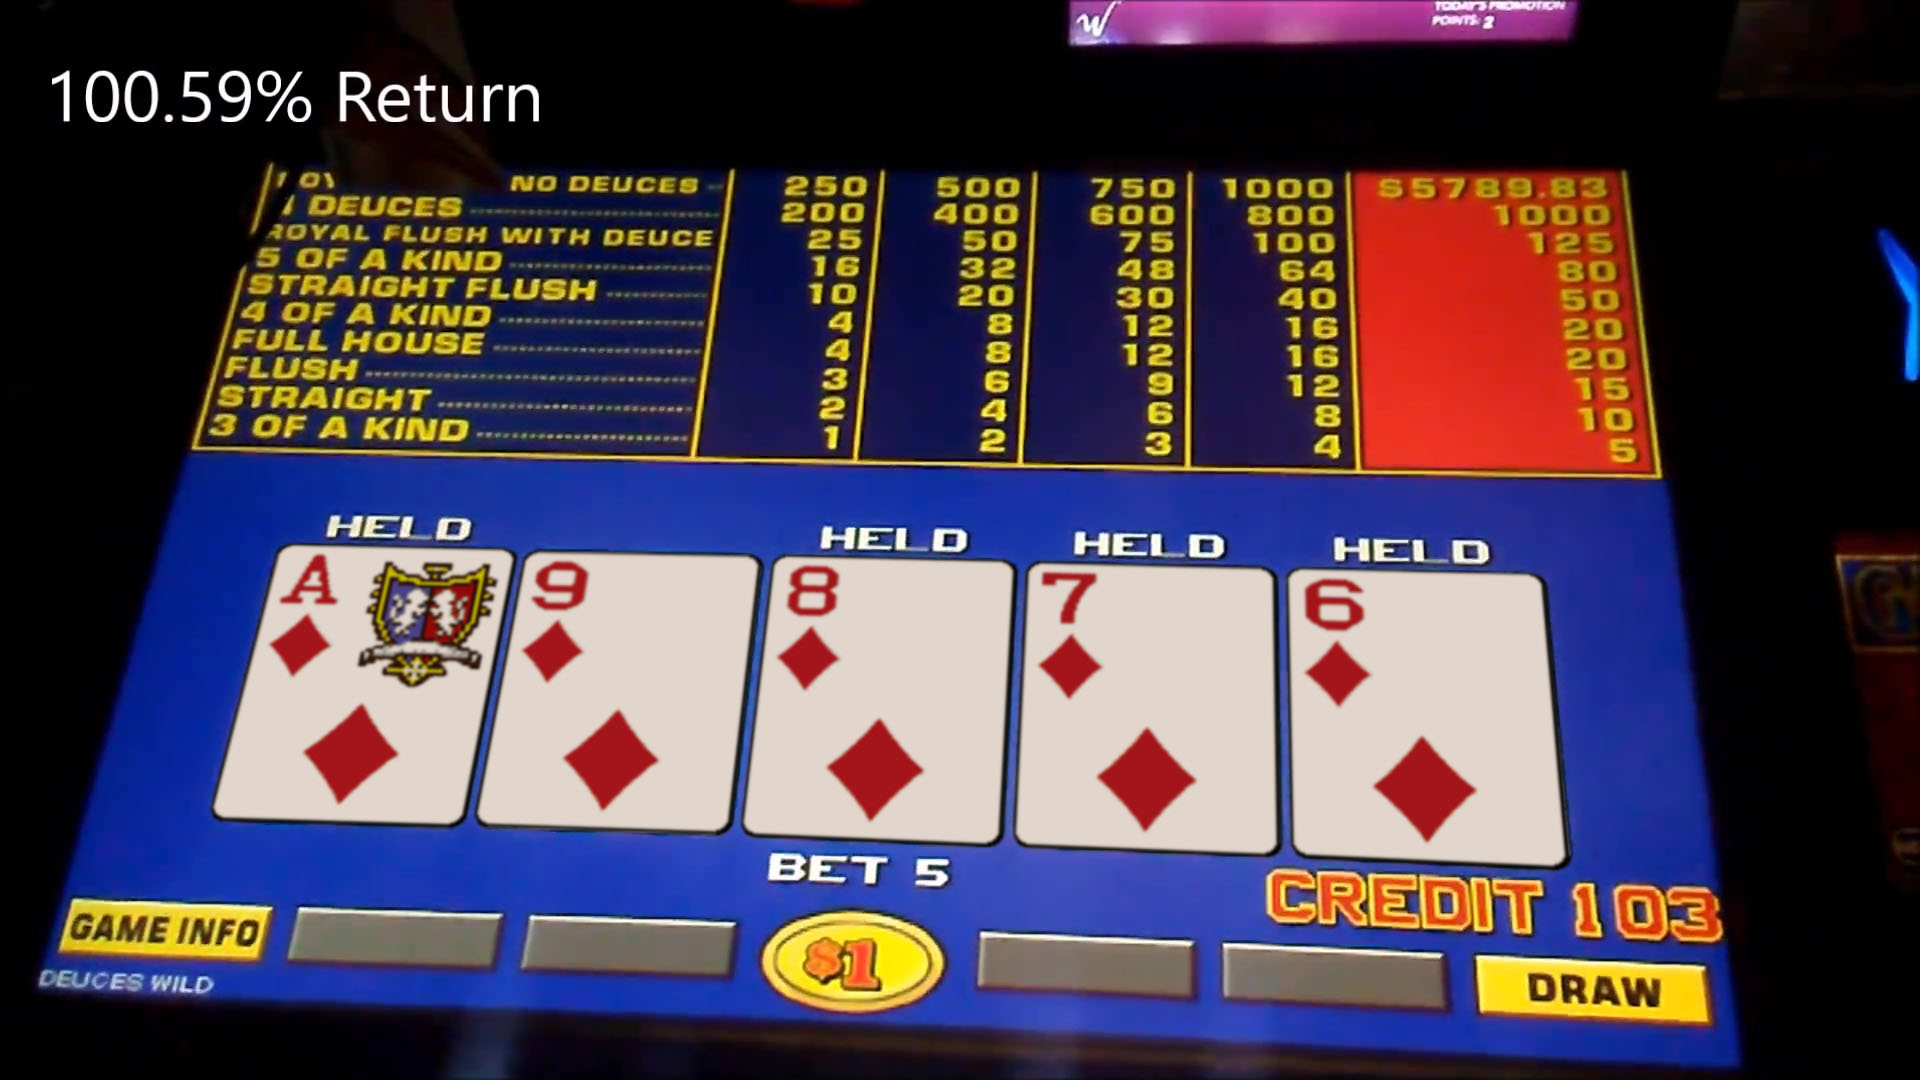D6: (1294, 575, 1553, 855)
D7: (1029, 564, 1270, 853)
D8: (771, 558, 997, 843)
D9: (522, 553, 735, 828)
DA: (265, 549, 472, 819)
